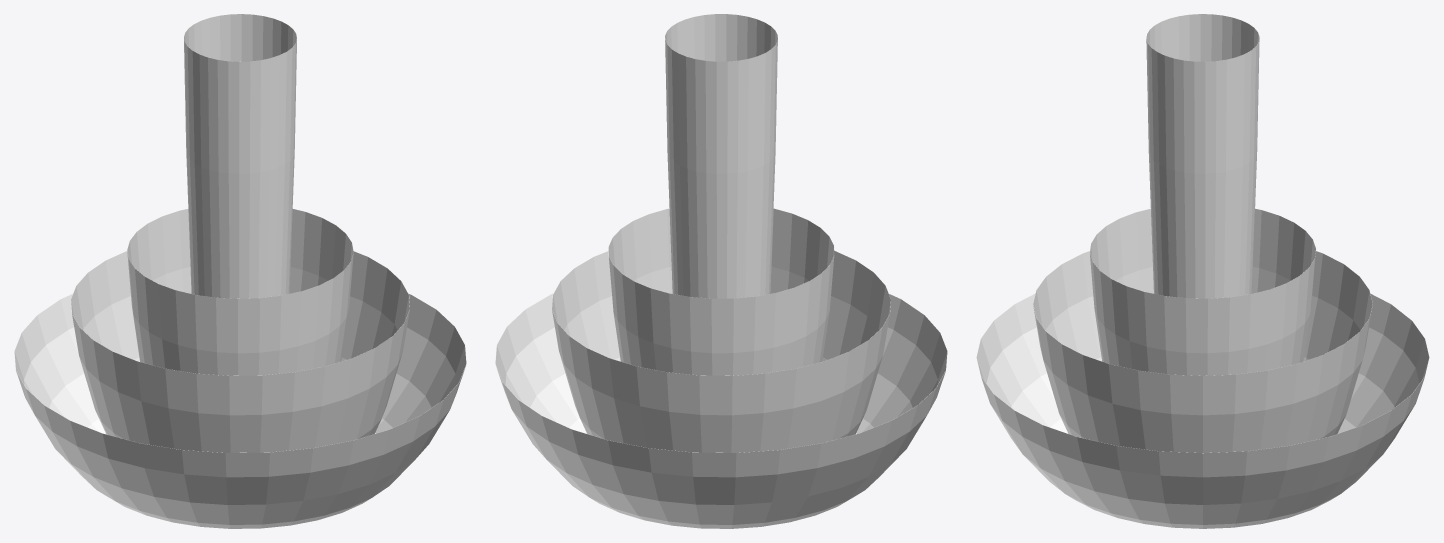
The model's file is aoe-impact-fx.fbx.
The picture shows the model from 3 angles, left to right: view 1: azimuth 30°, elevation 25°; view 2: azimuth 150°, elevation 25°; view 3: azimuth 270°, elevation 25°; orthographic projection.
Parts seen in each view (by area): view 1: Sphere, Sphere.001, aoe-fx, Sphere.002; view 2: Sphere, Sphere.001, aoe-fx, Sphere.002; view 3: Sphere, Sphere.001, aoe-fx, Sphere.002.
Part boxes in pixels (x1,y1,x2,y2): Sphere: (14, 293, 466, 528); Sphere.001: (71, 251, 409, 452); aoe-fx: (184, 14, 296, 298); Sphere.002: (127, 209, 353, 375); Sphere: (495, 293, 947, 528); Sphere.001: (552, 250, 890, 452); aoe-fx: (665, 14, 777, 298); Sphere.002: (608, 208, 834, 375); Sphere: (976, 293, 1429, 528); Sphere.001: (1033, 251, 1372, 452); aoe-fx: (1146, 14, 1259, 298); Sphere.002: (1090, 208, 1315, 375).
Bounding box in the file's own units: 193 × 200 × 193.
Materials: 1 (1 with a texture image).
